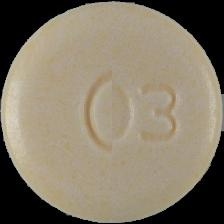68462-303: (0, 0, 224, 224)
